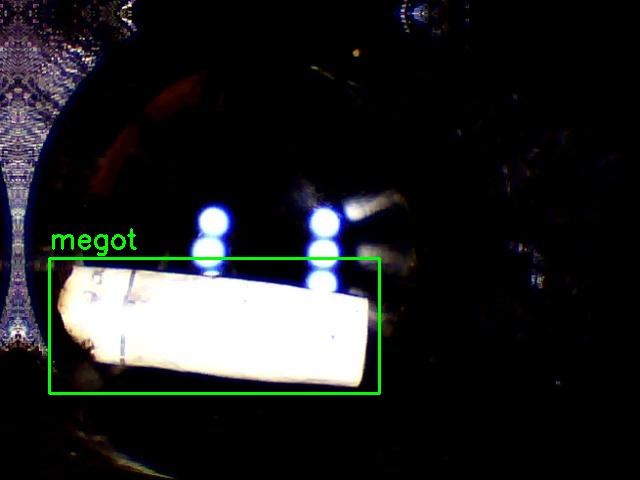megot: (49, 258, 379, 393)
